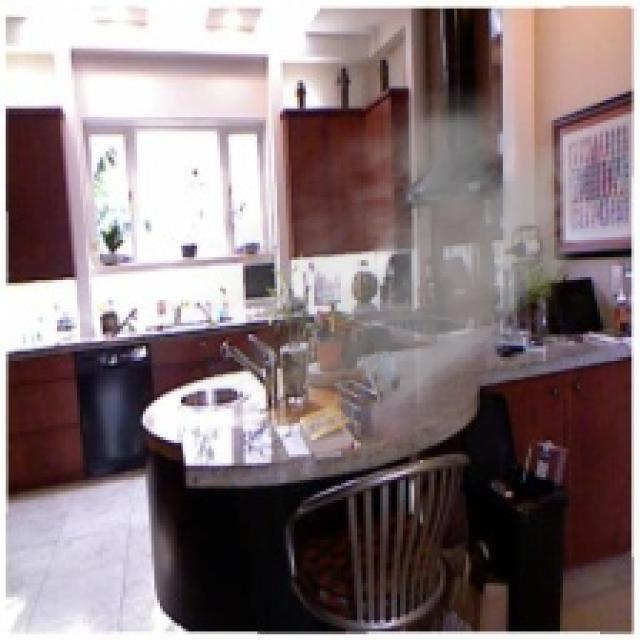smoke: (183, 69, 603, 452)
